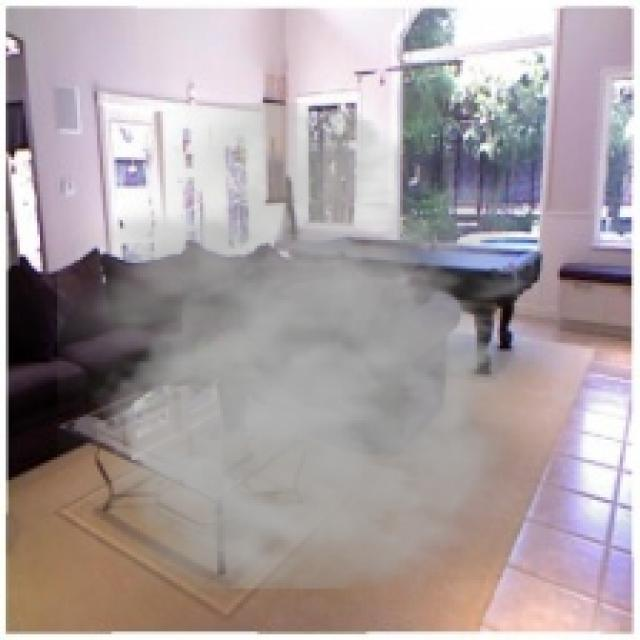smoke: (57, 103, 589, 620)
